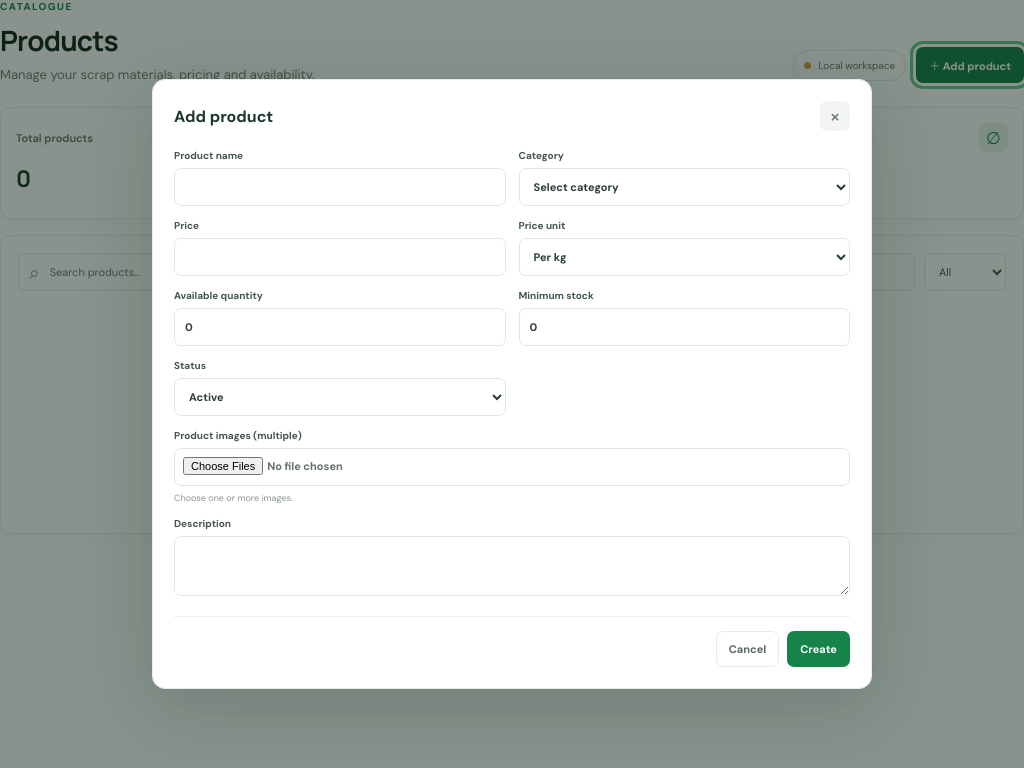
Test case: AdminManagement › creates a product with a default category and shows it in inventory
Earlier steps of the test are not shown.
Later steps or results of the test are not shown.
Type "Sorted paper" into the field labelled "Product name" at (340, 187), box [174,168,506,206]
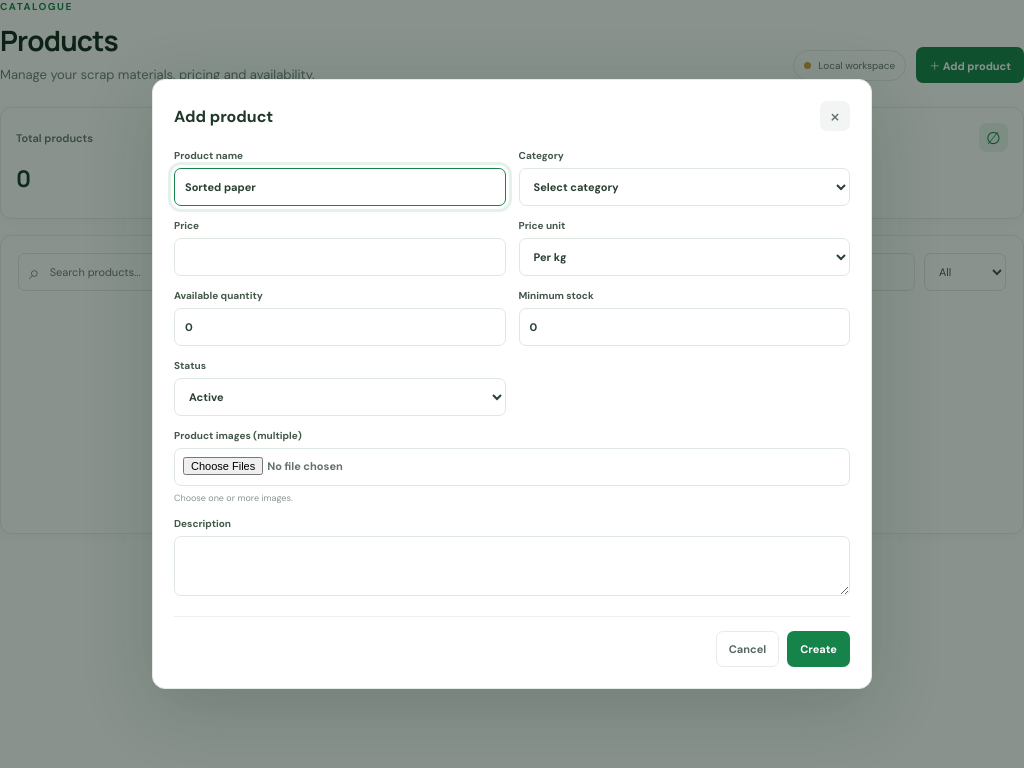
Select "Waste Paper" in the dropdown labelled "Category" at (684, 187), box [518,168,850,206]
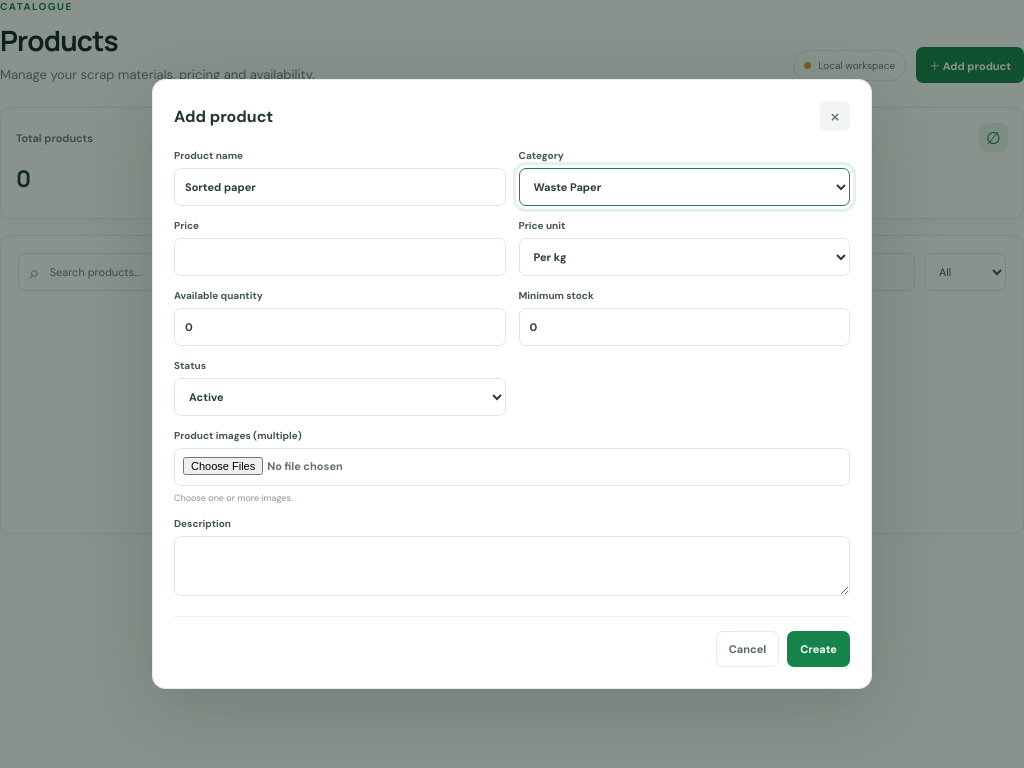
Type "12.5" into the number field labelled "Price" at (340, 257), box [174,238,506,276]
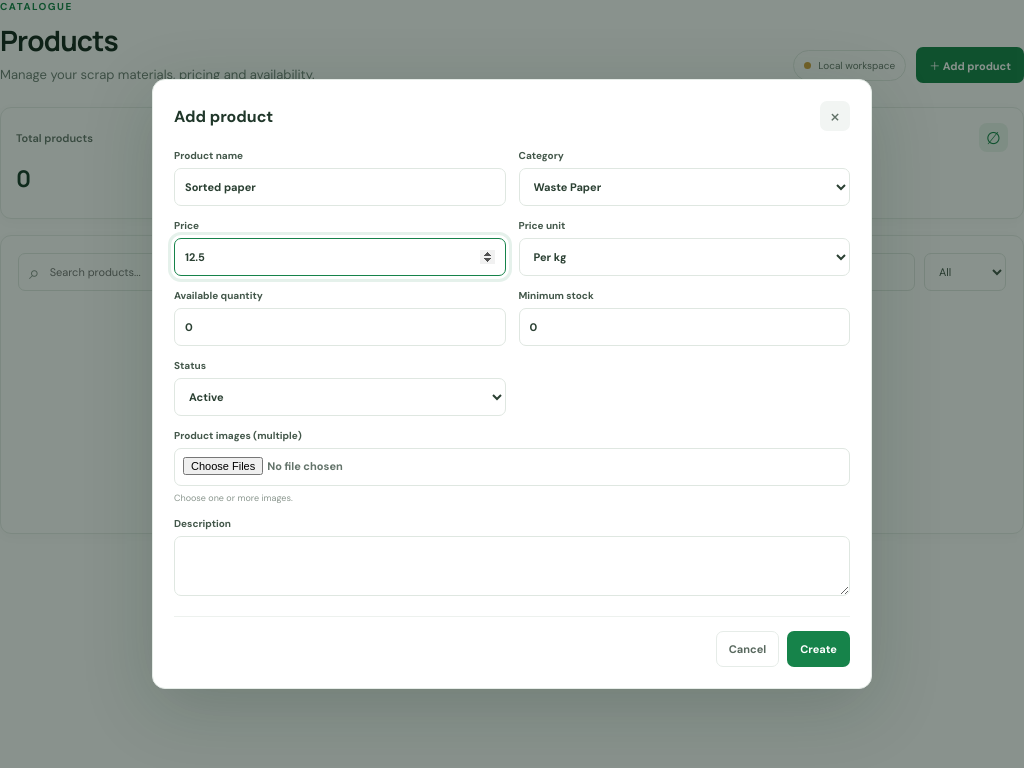
Type "25" into the number field labelled "Available quantity" at (340, 327), box [174,308,506,346]
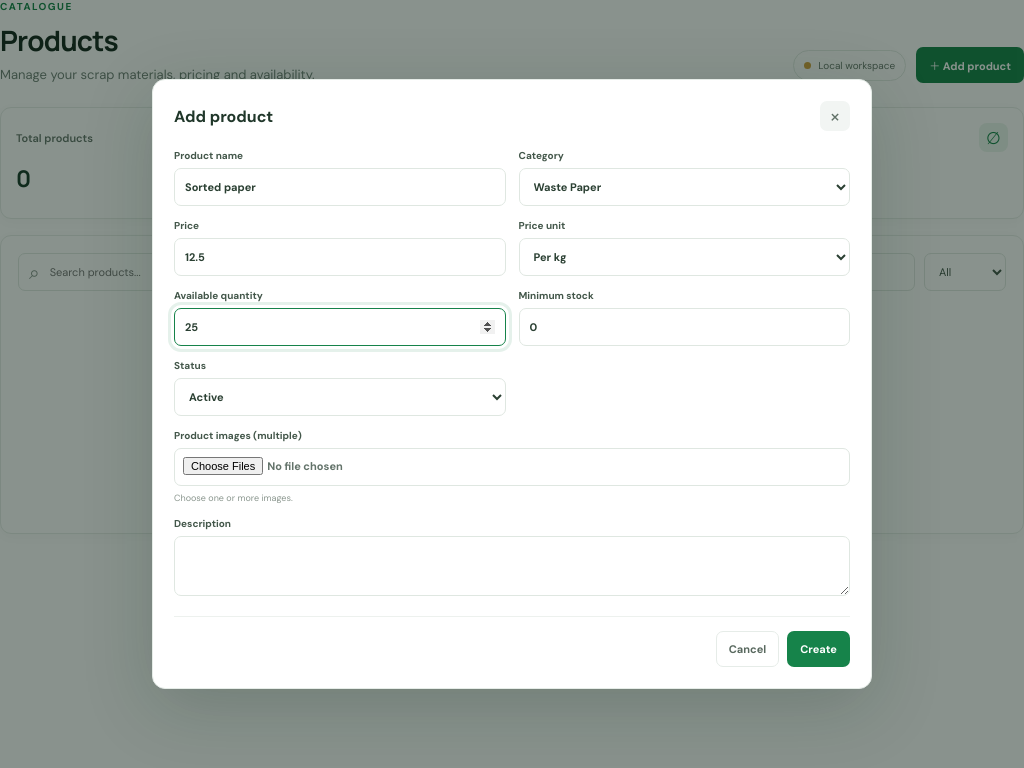
Type "5" into the number field labelled "Minimum stock" at (684, 327), box [518,308,850,346]
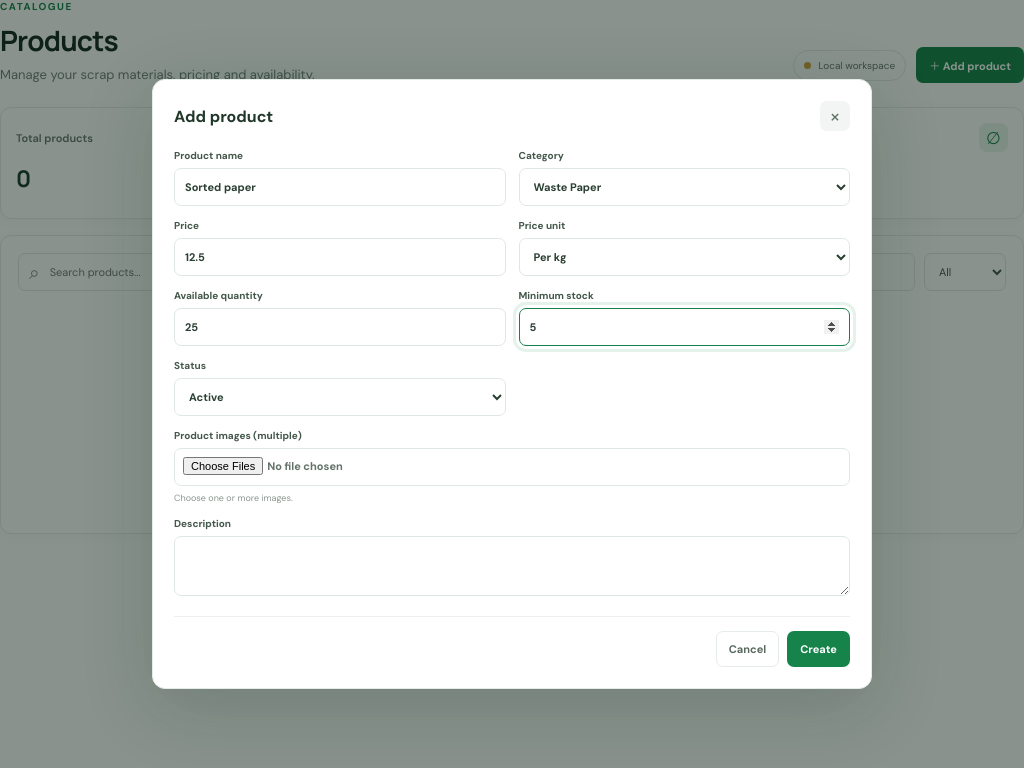
Click the button "Create" at (819, 649), box [787,631,850,667]
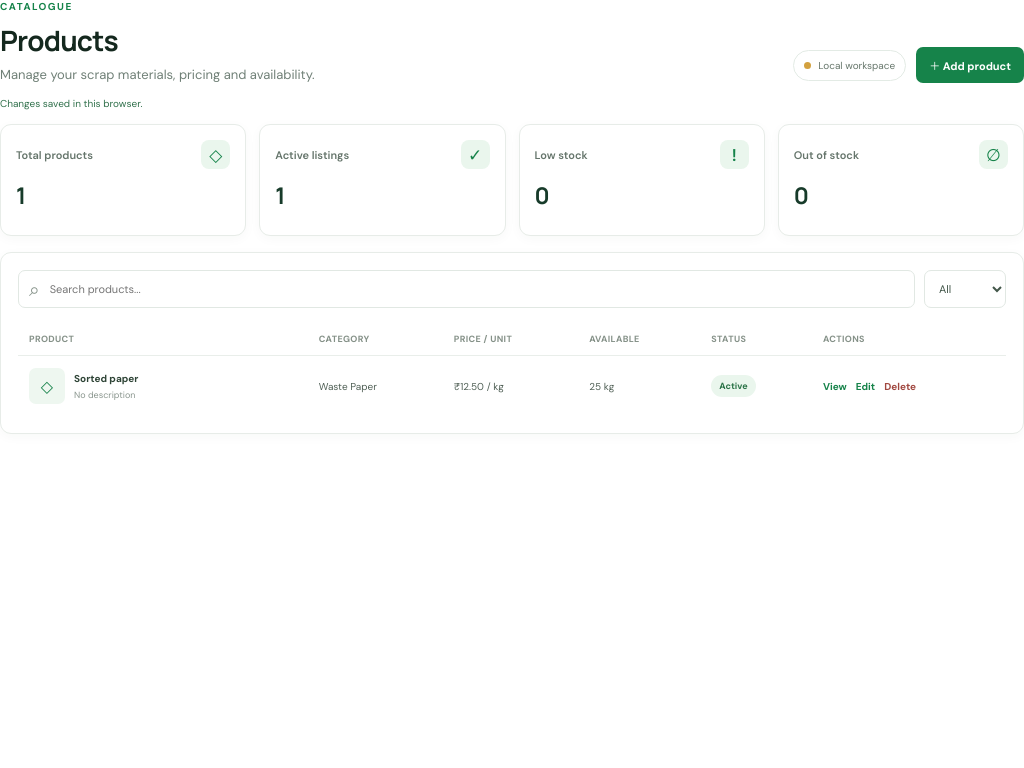
Result: the text "Sorted paper" is shown at [74,372,138,384]
